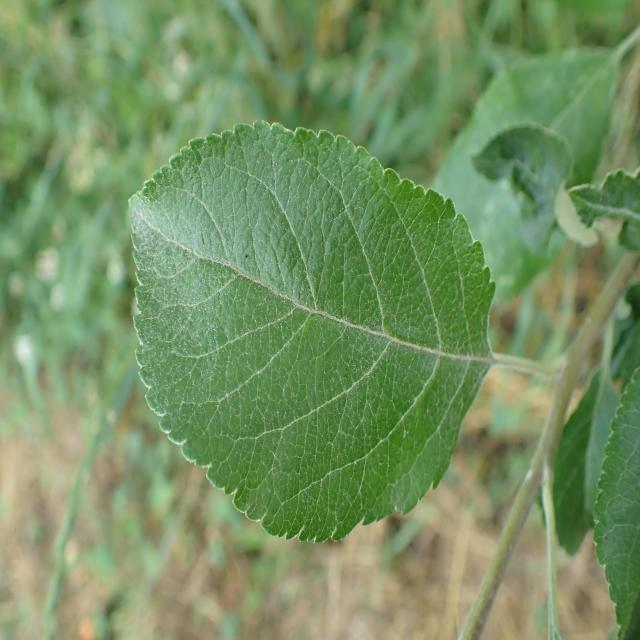healthy: (127, 118, 496, 546), (591, 364, 640, 640)
